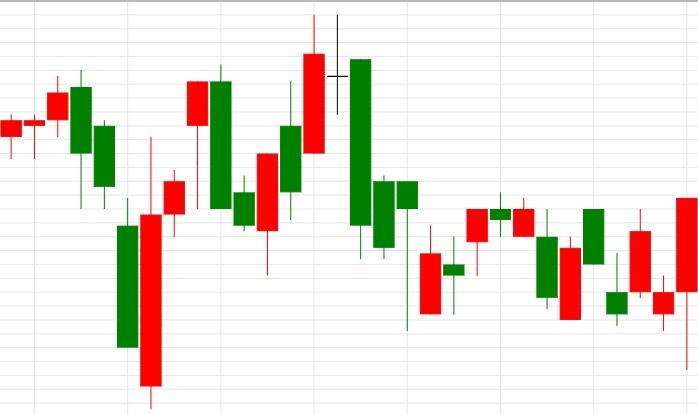bearish_engulfing_fall: (139, 64, 233, 409)
bullish_engulfing_rise: (186, 64, 279, 275)
